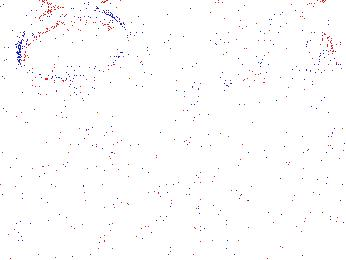moon jellyfish: (121, 8, 247, 88), (17, 6, 127, 85), (245, 18, 333, 79)
